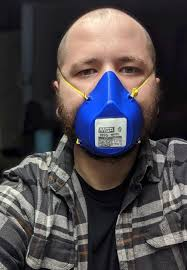masked: (51, 12, 161, 153)
